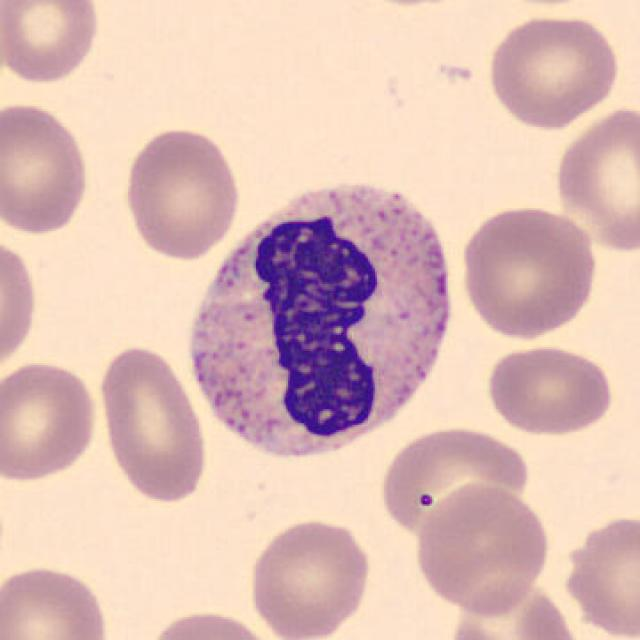Neutrophil: (176, 169, 464, 480)
RBC: (457, 201, 601, 342), (375, 421, 533, 543), (412, 480, 553, 616), (96, 342, 210, 506), (119, 123, 244, 263), (482, 10, 624, 130), (244, 515, 375, 640), (549, 102, 640, 256), (482, 340, 617, 439), (0, 99, 94, 238), (0, 358, 101, 485), (556, 510, 640, 638), (0, 560, 114, 640), (443, 575, 581, 640), (0, 0, 103, 86), (0, 229, 41, 381), (142, 606, 279, 640), (330, 0, 485, 12), (489, 0, 606, 9)
